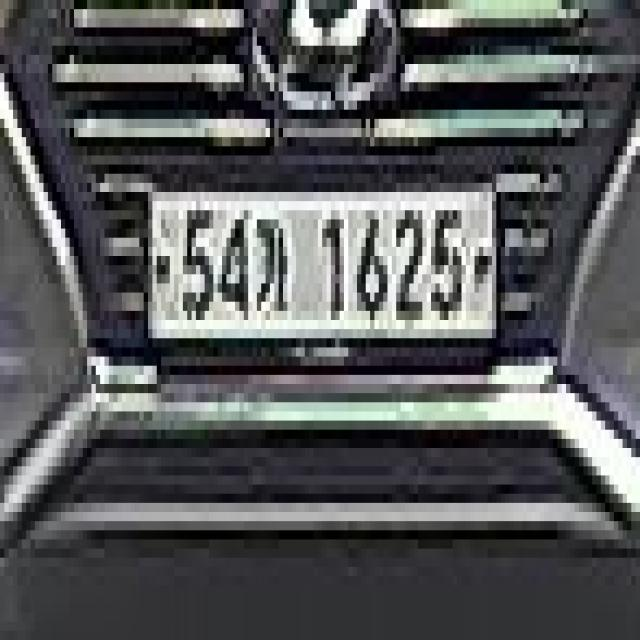1: (318, 201, 348, 329)
2: (388, 192, 431, 329)
4: (213, 192, 257, 320)
5: (170, 192, 218, 320), (427, 183, 466, 329)
6: (348, 192, 392, 329)
ga: (248, 210, 292, 329)
license_plate: (144, 183, 505, 375)
